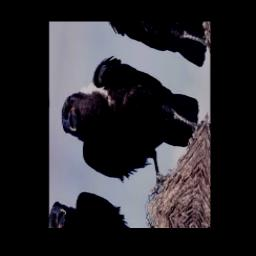Crow: (55, 33, 205, 217)
